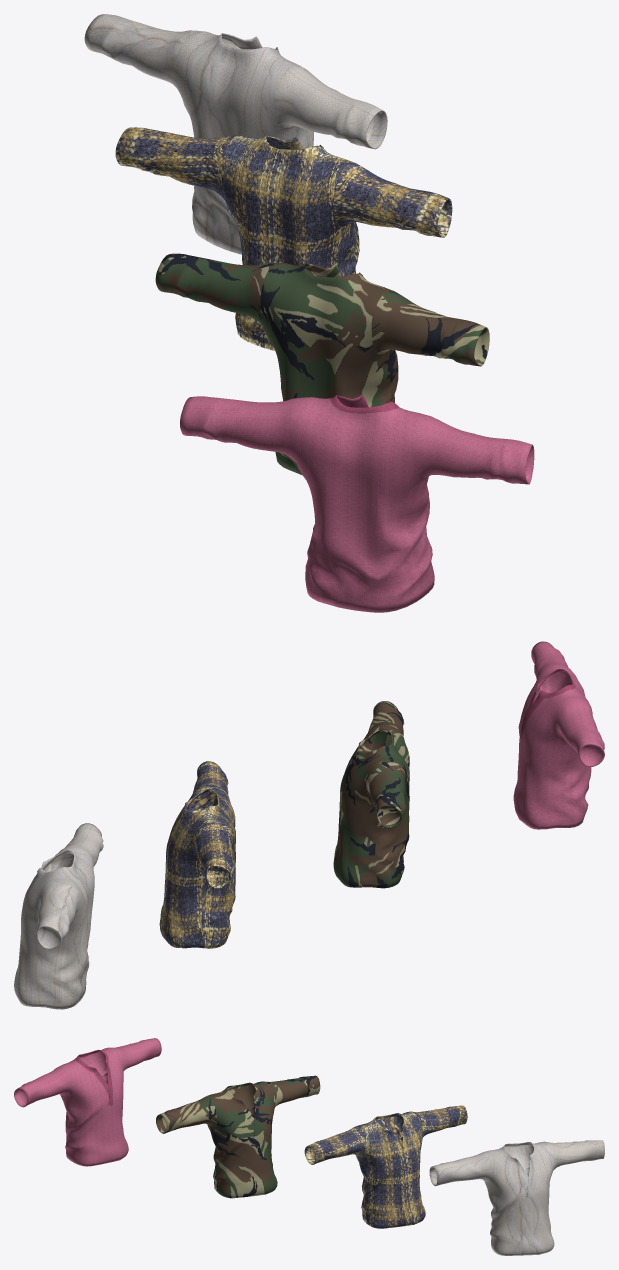
3 views of the same model, one above another, from view 1: azimuth 30°, elevation 25°; view 2: azimuth 150°, elevation 25°; view 3: azimuth 270°, elevation 25° (orthographic). The views are drawn at different scales.
Parts seen in each view (by area): view 1: tops_4, tops.001_8, tops.002_12, tops.003_16; view 2: tops_4, tops.003_16, tops.002_12, tops.001_8; view 3: tops.003_16, tops.001_8, tops.002_12, tops_4.
Part boxes in pixels (x1=…): tops_4: x1=180, y1=394, x2=534, y2=612; tops.001_8: x1=155, y1=253, x2=489, y2=475; tops.002_12: x1=115, y1=127, x2=452, y2=350; tops.003_16: x1=84, y1=14, x2=387, y2=254; tops_4: x1=513, y1=641, x2=604, y2=829; tops.003_16: x1=14, y1=823, x2=103, y2=1009; tops.002_12: x1=159, y1=761, x2=235, y2=948; tops.001_8: x1=333, y1=701, x2=409, y2=888; tops.003_16: x1=429, y1=1140, x2=604, y2=1255; tops.001_8: x1=156, y1=1075, x2=320, y2=1198; tops.002_12: x1=304, y1=1105, x2=467, y2=1228; tops_4: x1=14, y1=1038, x2=161, y2=1166.
Size of the model in its own units: 3.33 by 1.49 by 6.88.
Materials: 4 (4 with a texture image).
